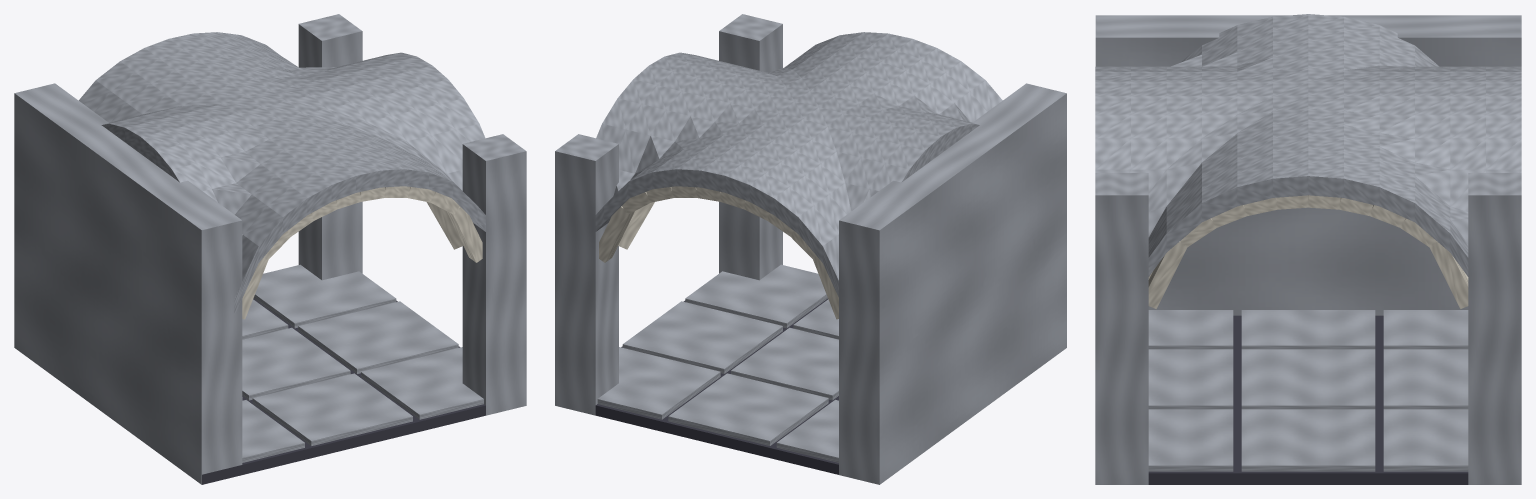
File: vampire-crypt-and-gothic-cathedral-crypt-corridor-tee-047deead__22972.glb
3 views of the same model, side by side, from view 1: azimuth 30°, elevation 25°; view 2: azimuth 150°, elevation 25°; view 3: azimuth 270°, elevation 25° (orthographic). The views are drawn at different scales.
Visible parts, largest first — view 1: crypt-corridor-tee; view 2: crypt-corridor-tee; view 3: crypt-corridor-tee.
Boxes of the visible parts, x1,y1,x2,y2 form: crypt-corridor-tee: [14, 14, 526, 484]; crypt-corridor-tee: [555, 14, 1066, 484]; crypt-corridor-tee: [1095, 14, 1521, 484].
Size of the model in its own units: 4 by 3.2 by 4.
Materials: 4 (2 with a texture image).
